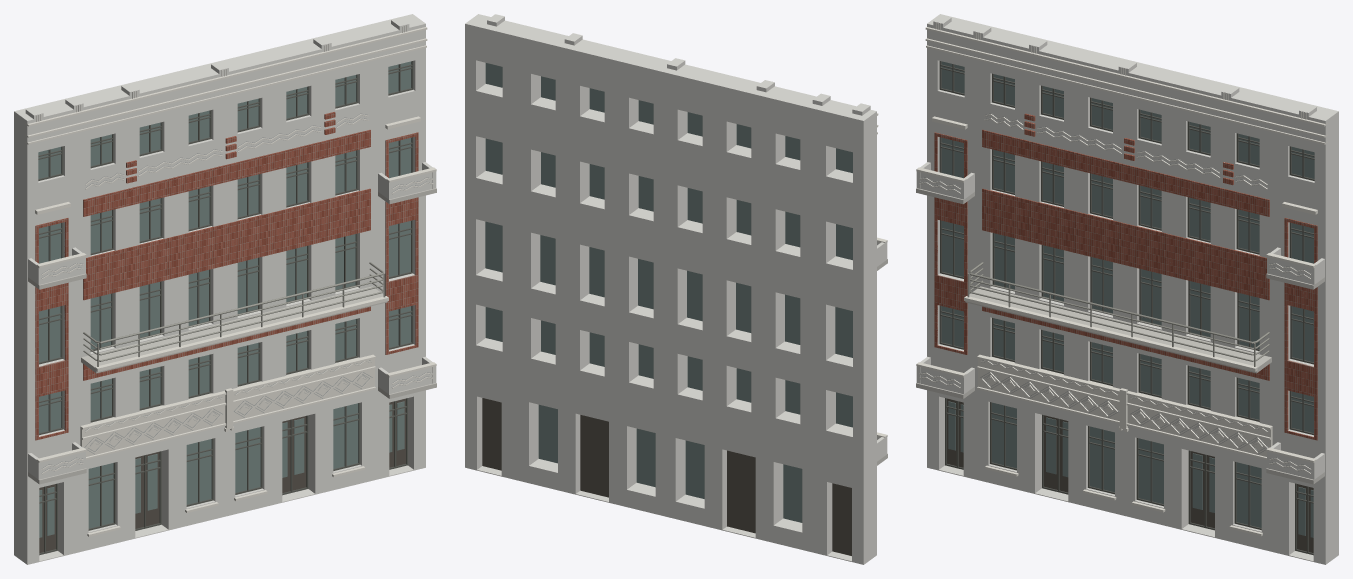
File: huangpu-guangdong-306-trading-house-front-raw.glb
The picture shows the model from 3 angles, left to right: view 1: azimuth 30°, elevation 25°; view 2: azimuth 150°, elevation 25°; view 3: azimuth 330°, elevation 25°; orthographic projection.
Parts seen in each view (by area): view 1: 广东路306号洋行旧址南立面长阳台与几何饰带; view 2: 广东路306号洋行旧址南立面长阳台与几何饰带; view 3: 广东路306号洋行旧址南立面长阳台与几何饰带.
Part boxes in pixels (x1,y1,x2,y2): 广东路306号洋行旧址南立面长阳台与几何饰带: (14,14,436,564); 广东路306号洋行旧址南立面长阳台与几何饰带: (465,14,887,564); 广东路306号洋行旧址南立面长阳台与几何饰带: (916,14,1338,564).
Size of the model in its own units: 14.87 by 15.96 by 1.93.
Materials: 9 (1 with a texture image).
